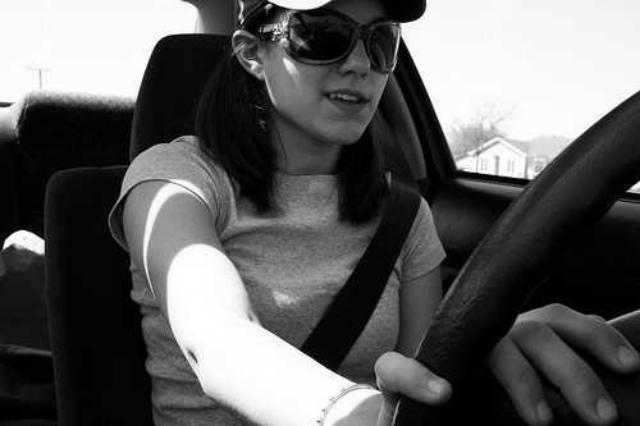Seatbelt: (296, 178, 424, 374)
